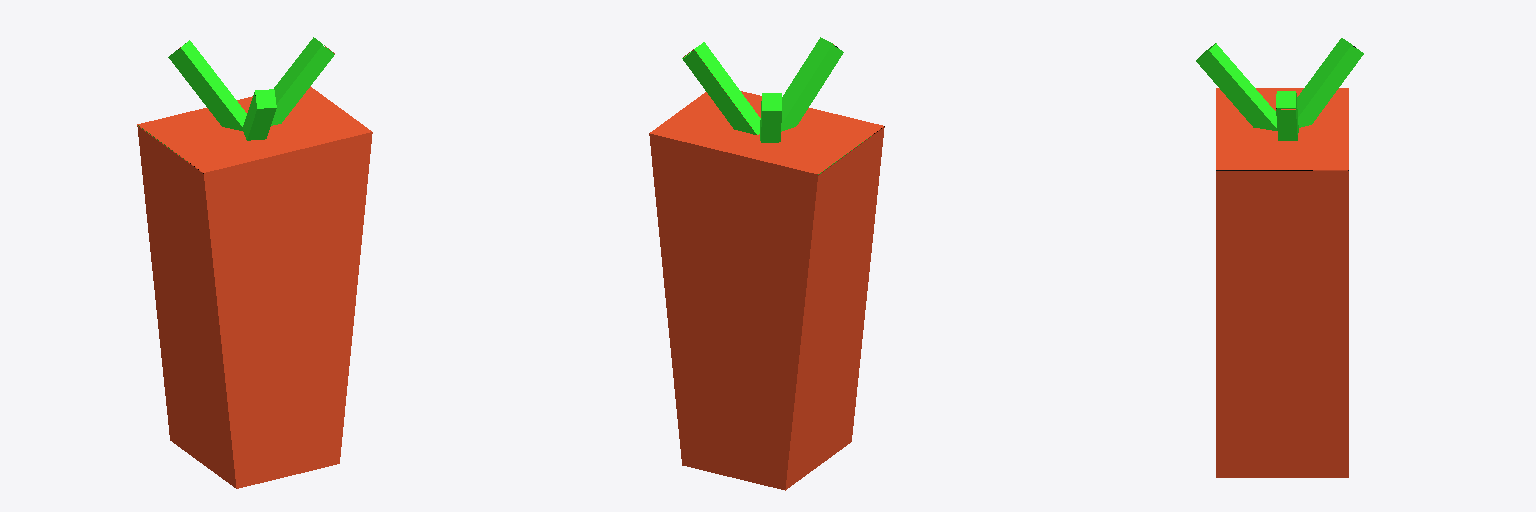
3 views of the same model, side by side, from view 1: azimuth 30°, elevation 25°; view 2: azimuth 150°, elevation 25°; view 3: azimuth 270°, elevation 25° (orthographic).
Parts seen in each view (by area): view 1: 立方体.001_立方体.005; view 2: 立方体.001_立方体.005; view 3: 立方体.001_立方体.005.
Boxes of the visible parts, x1=… form: 立方体.001_立方体.005: x1=137, y1=37, x2=372, y2=488; 立方体.001_立方体.005: x1=649, y1=37, x2=884, y2=490; 立方体.001_立方体.005: x1=1196, y1=38, x2=1363, y2=477.
Size of the model in its own units: 2 by 4.45 by 1.72.
1 materials, 1 textured.